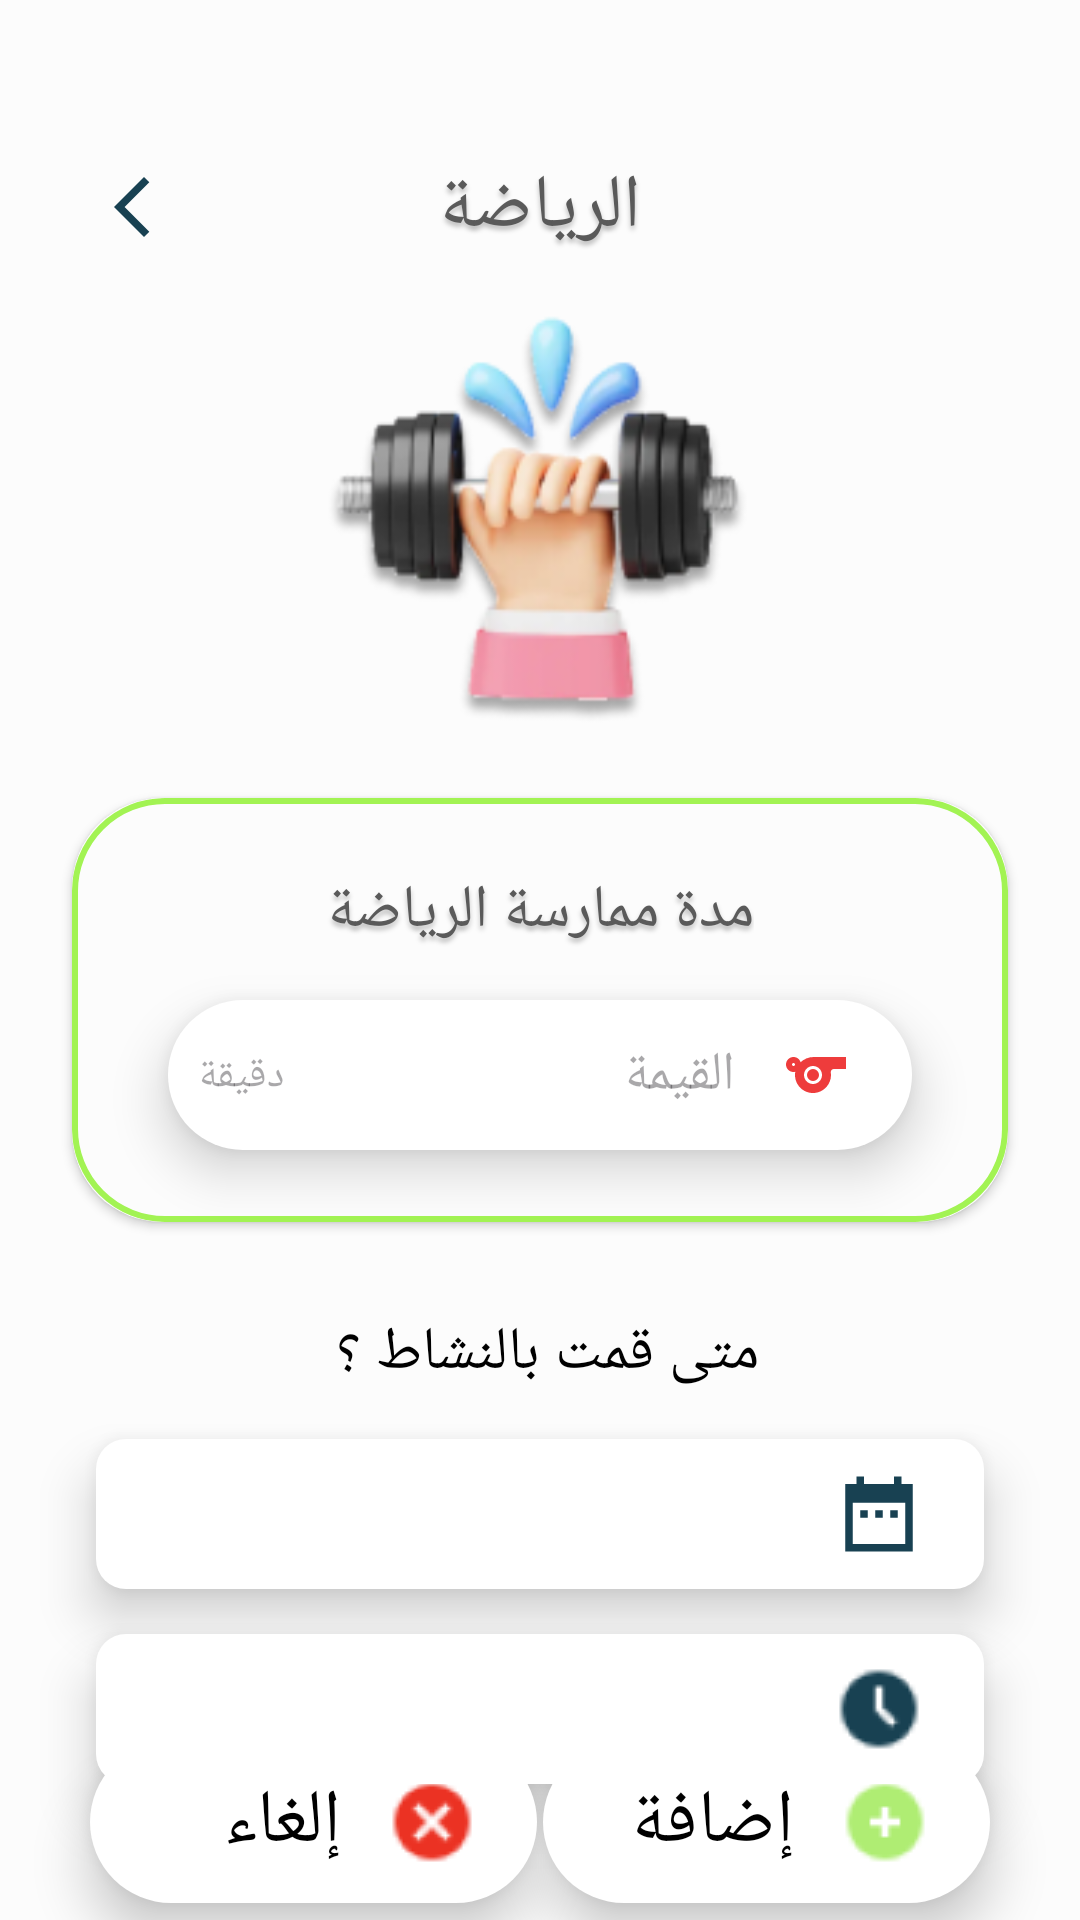

Icon click points for this 1080x1920 phone screenshot, format (x,y):
arrow back: (131,207)
